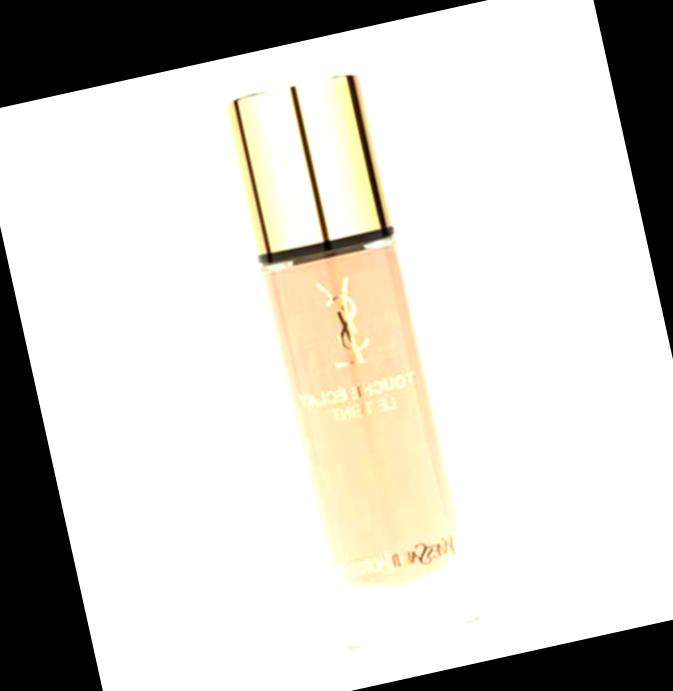cosmetic: (214, 66, 486, 665)
